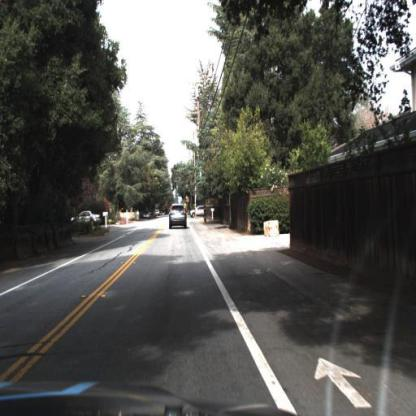car: (163, 199, 193, 233), (69, 208, 103, 230), (189, 202, 212, 225)
